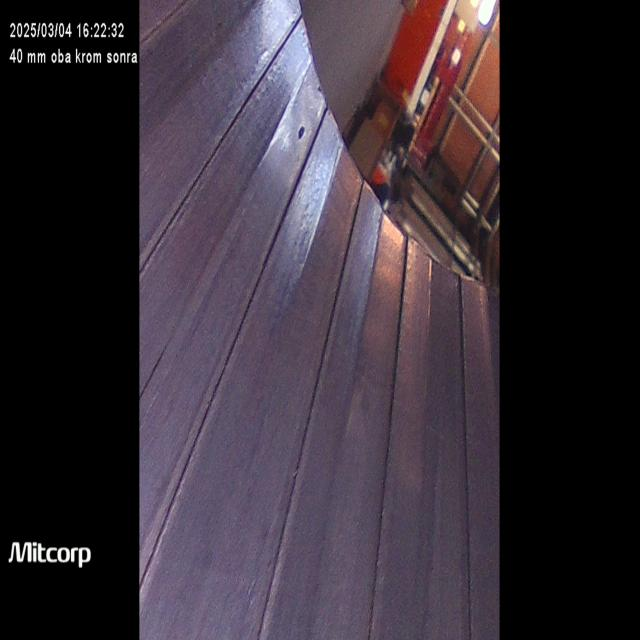hata_4.2: (289, 116, 315, 156)
